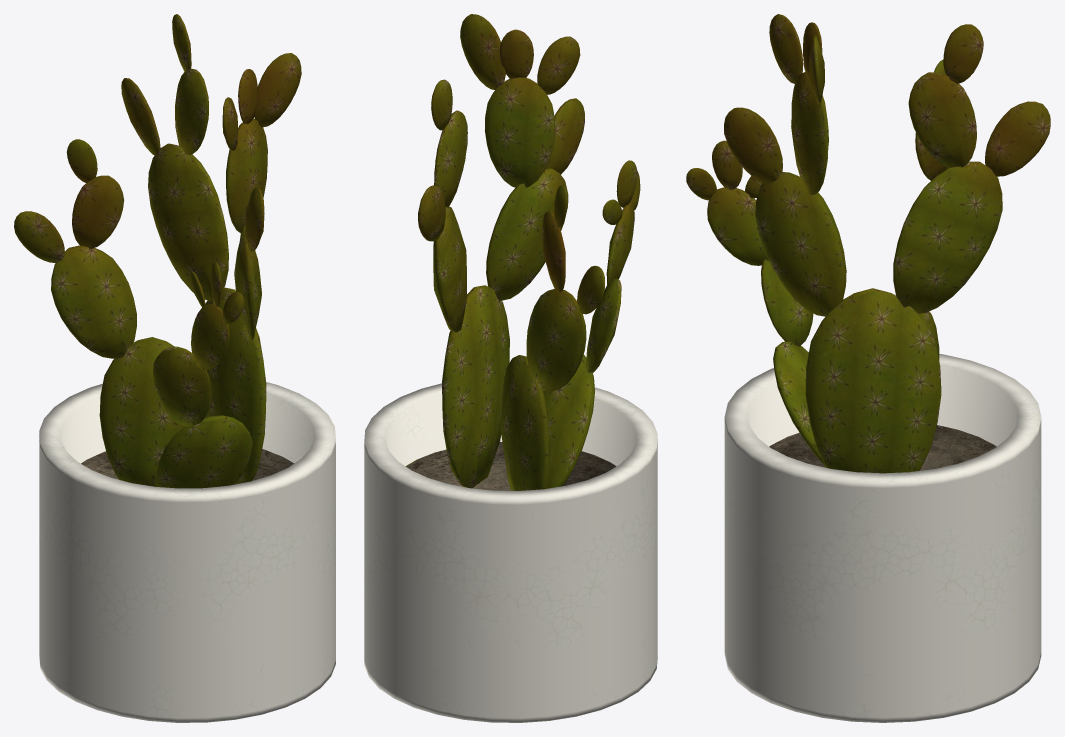
The model's file is skfa479faa.glb.
3 views of the same model, side by side, from view 1: azimuth 30°, elevation 25°; view 2: azimuth 150°, elevation 25°; view 3: azimuth 270°, elevation 25° (orthographic). The views are drawn at different scales.
Parts seen in each view (by area): view 1: Plane.021; view 2: Plane.021; view 3: Plane.021.
Boxes of the visible parts, x1=… form: Plane.021: x1=14, y1=14, x2=335, y2=722; Plane.021: x1=364, y1=14, x2=657, y2=722; Plane.021: x1=686, y1=14, x2=1050, y2=722.
Bounding box in the file's own units: 0.3137 × 0.7 × 0.3541.
Materials: 1 (1 with a texture image).
